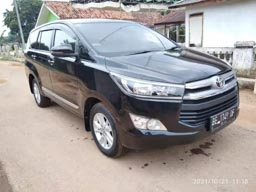plat: (213, 105, 238, 129)
